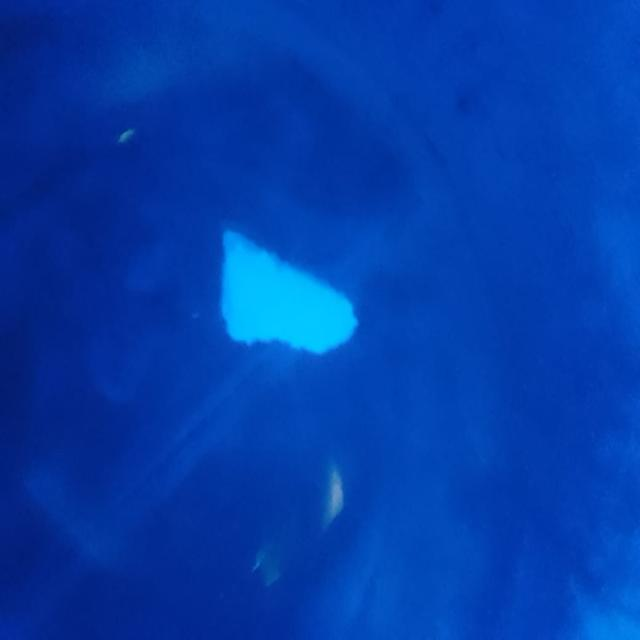litter: (194, 202, 378, 376)
